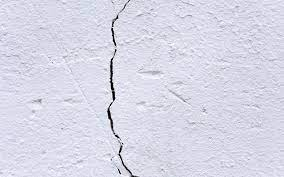crack: (103, 0, 137, 176)
